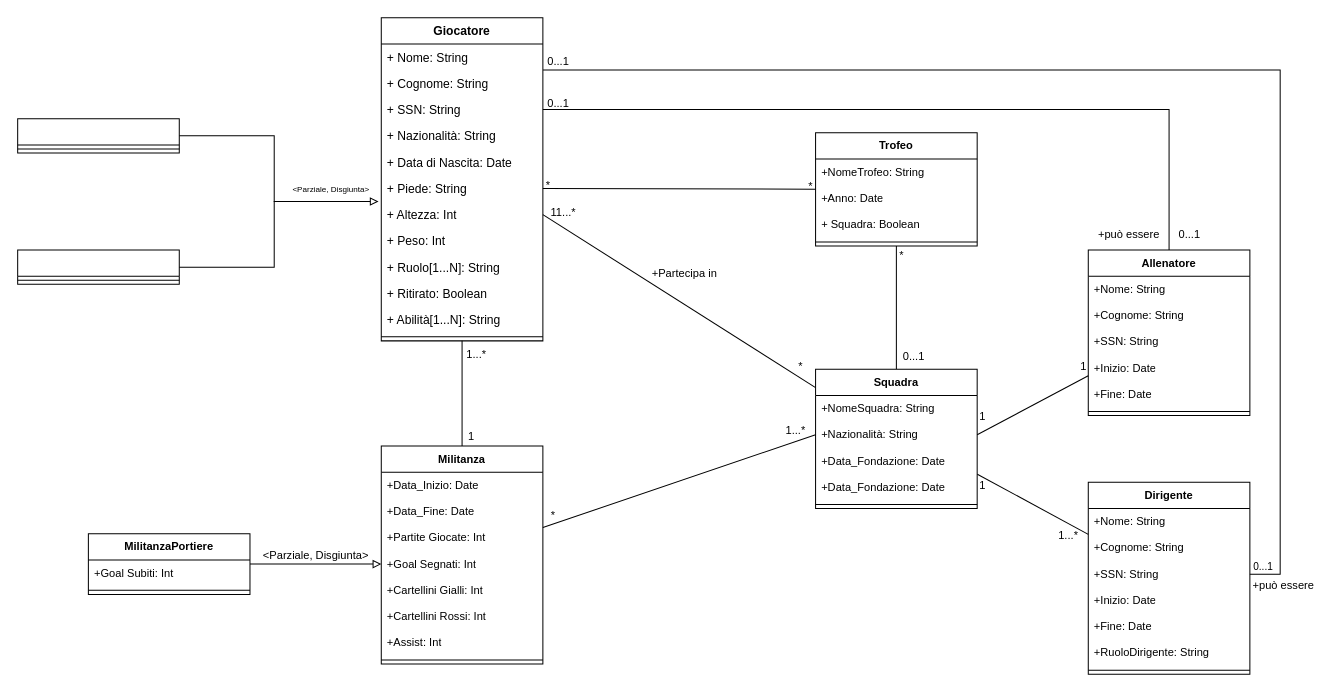
Image size: 1341x692. Some labels were removed from this diagram. The shapes that lost their labels are listed below. From the top down, each one's centre as x and y in pixels, then its label:
At (x=98, y=135): "Portiere".
At (x=98, y=266): "GiocatoreDiRuolo".
